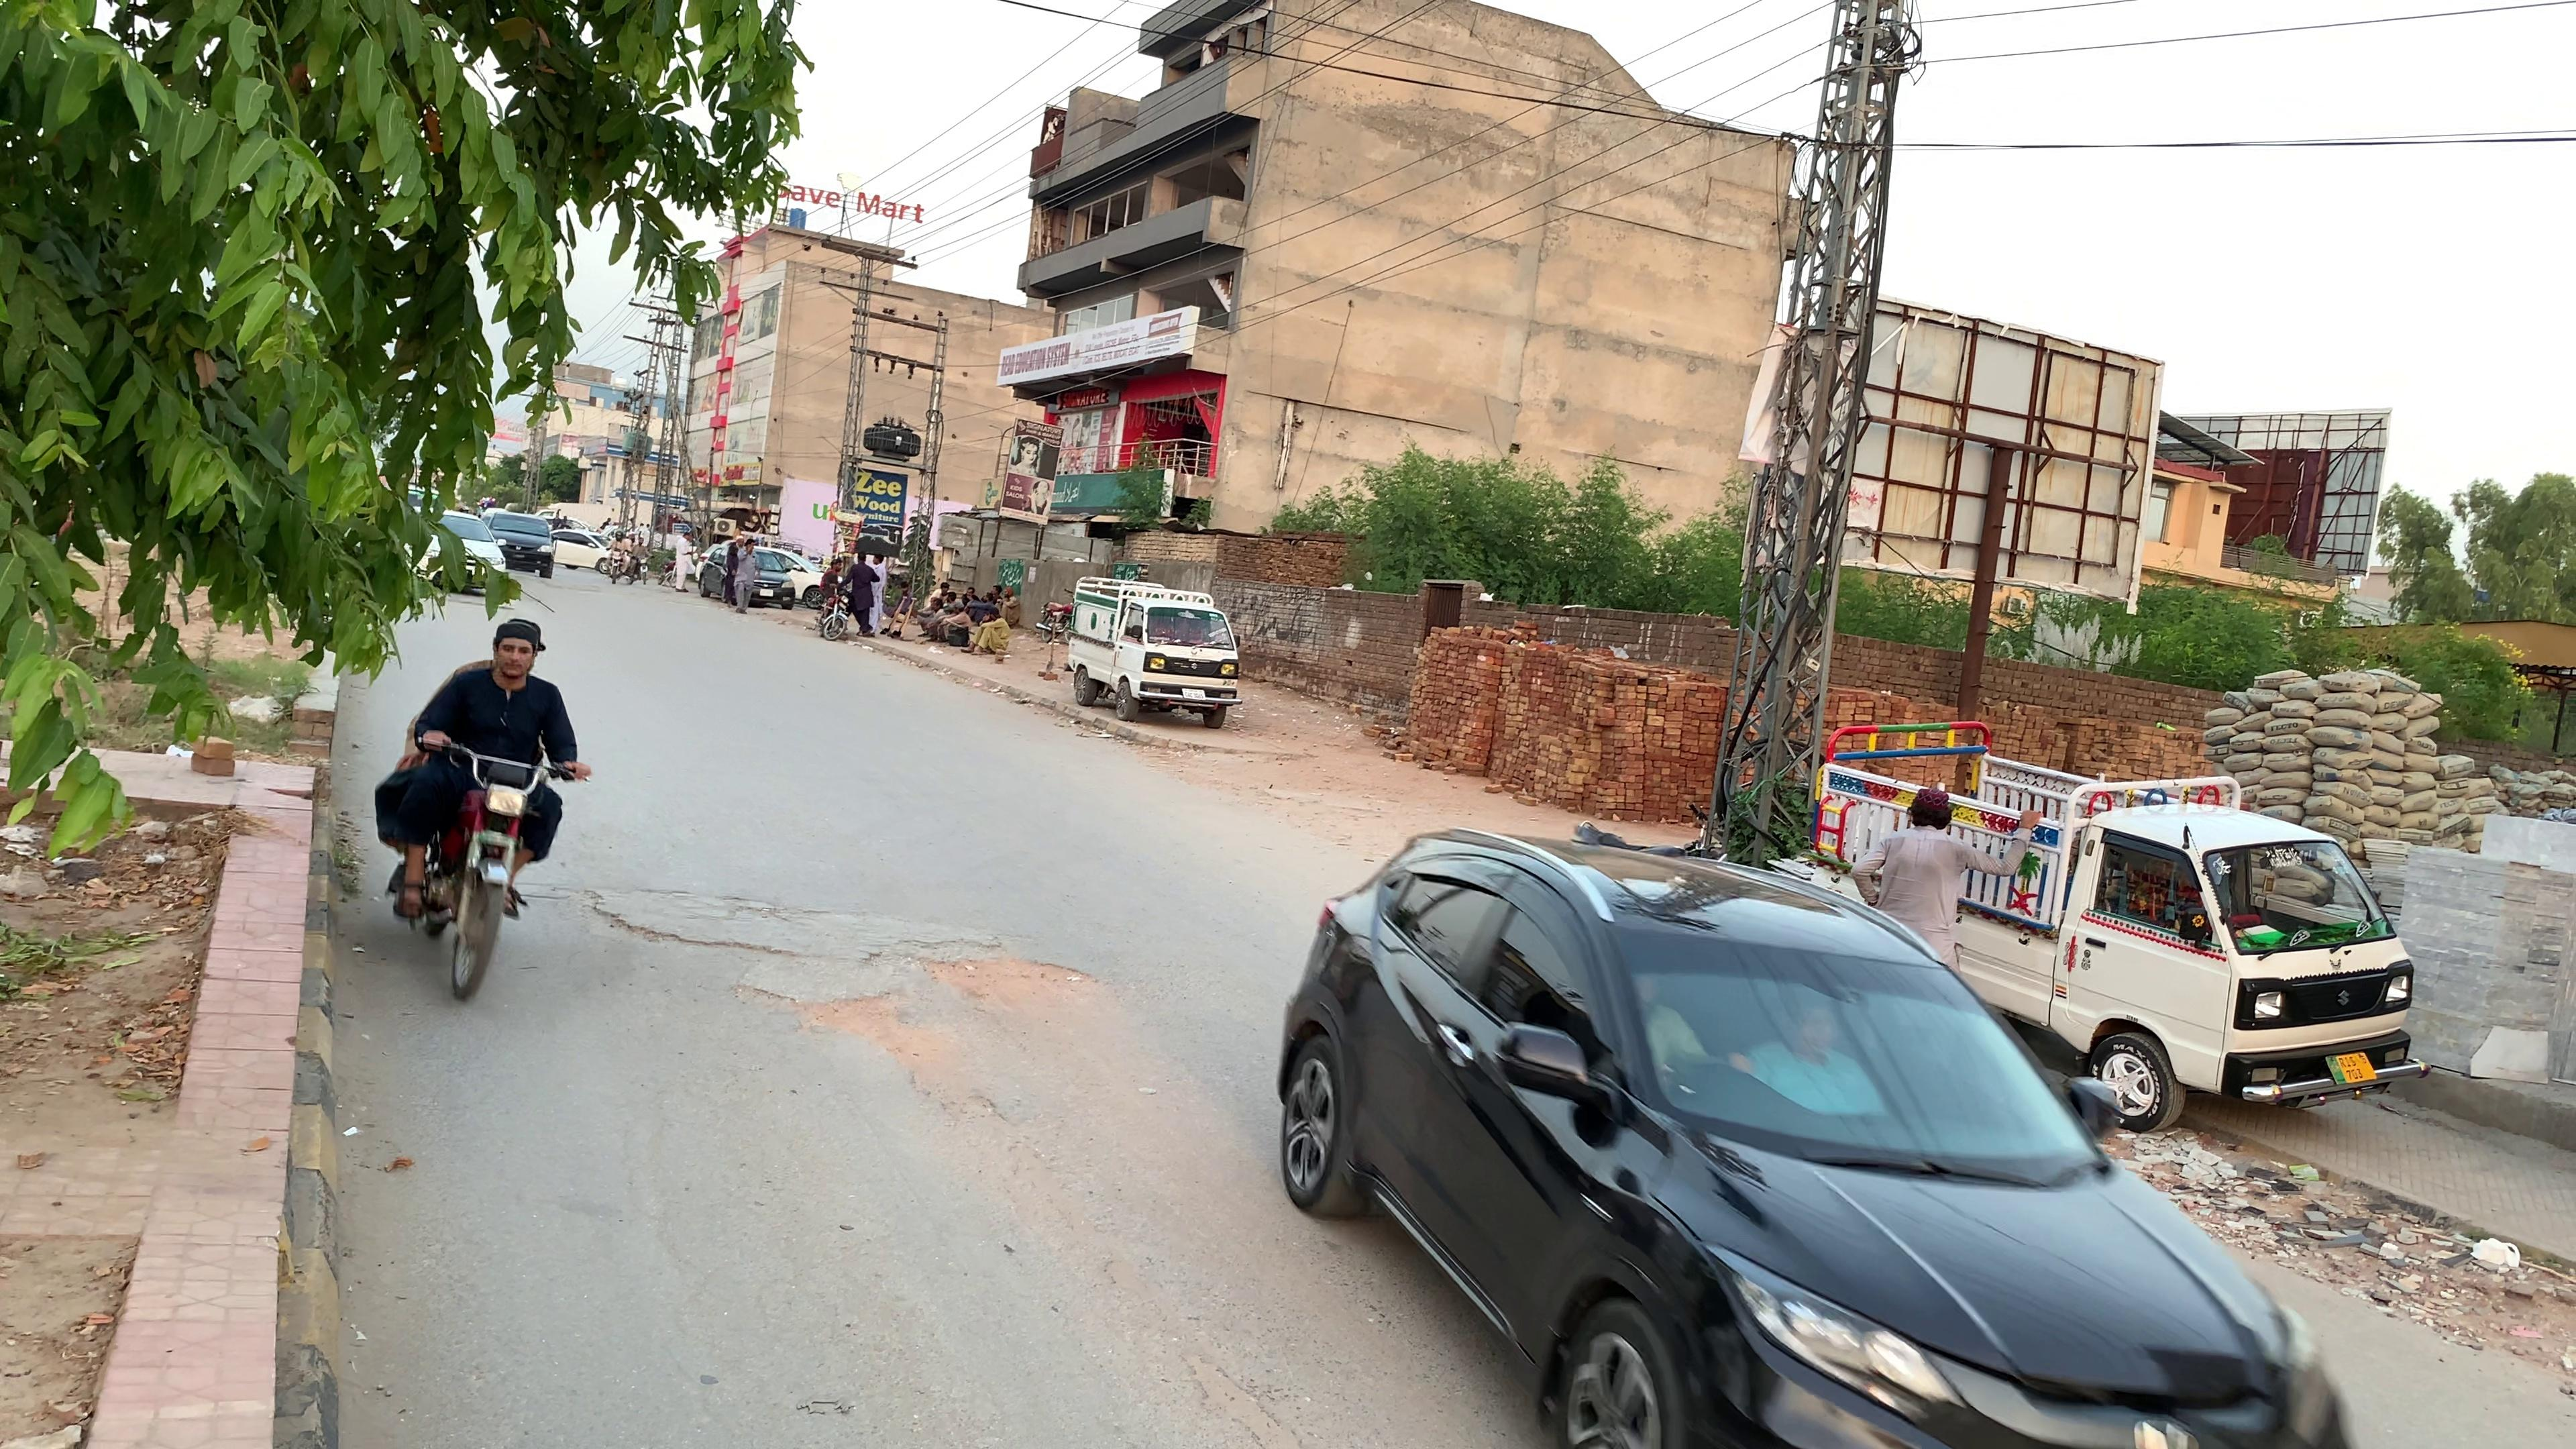windshield: (1603, 932, 2104, 1168)
